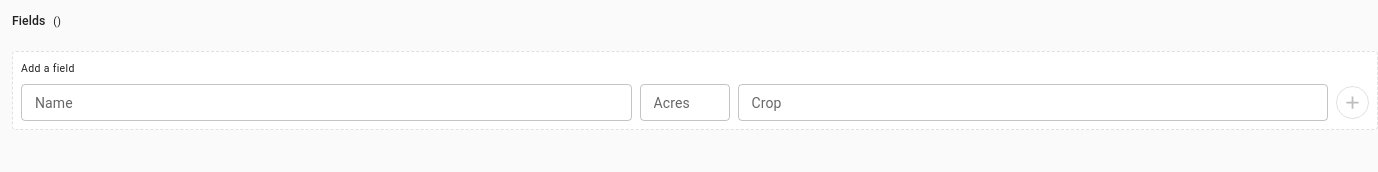
Scenario: FieldsForFarm › surfaces duplicate-name errors inline
In the field labelled "Name": (326, 102) [21, 84, 632, 121], type "field 7"
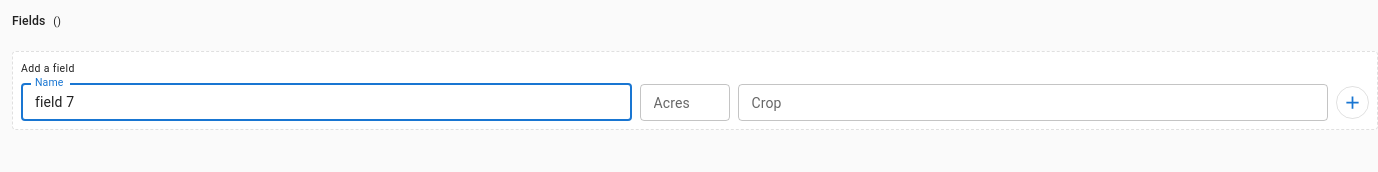
Click the button named "add field": (1352, 102) [1336, 86, 1369, 119]
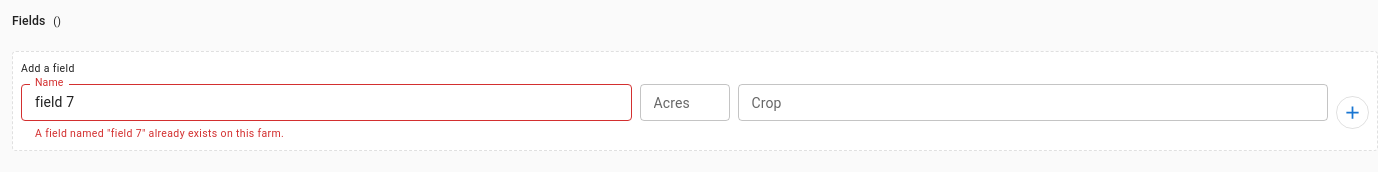
Expected: the text "A field named \"field 7\" already exists on this farm." is shown, [35, 127, 284, 140]
